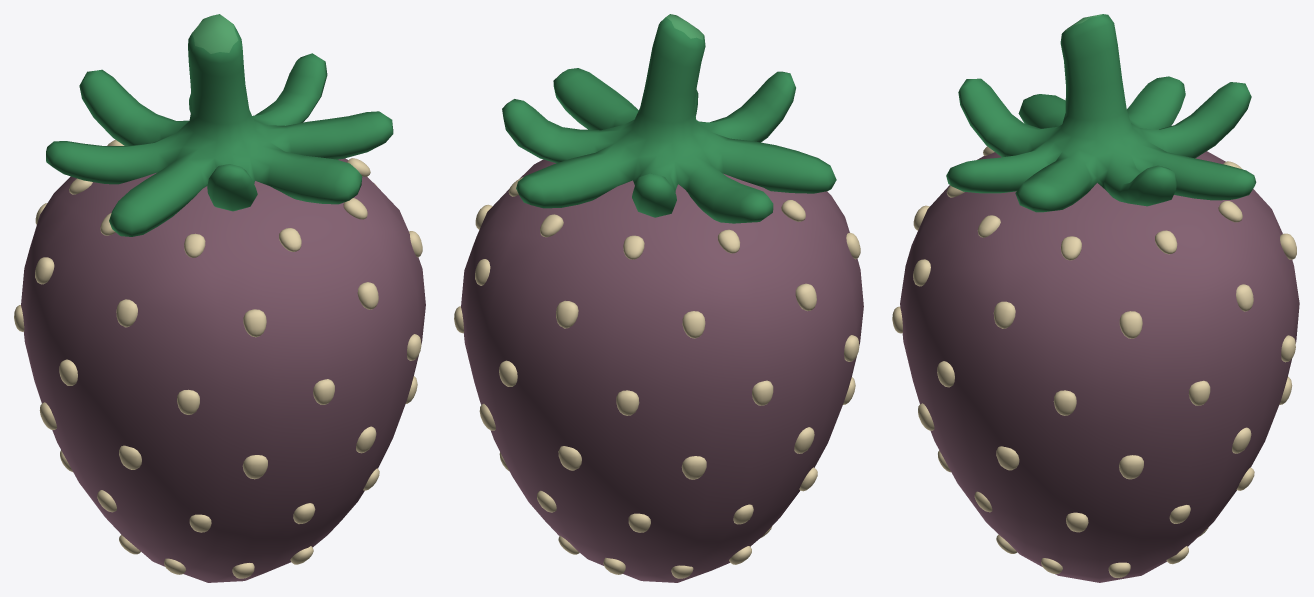
The model's file is Strawberry_02.dae.
3 renders of one model, left to right at view 1: azimuth 30°, elevation 25°; view 2: azimuth 150°, elevation 25°; view 3: azimuth 270°, elevation 25°, orthographic.
Visible parts, largest first — view 1: Strawberry_02_LOD0; view 2: Strawberry_02_LOD0; view 3: Strawberry_02_LOD0.
Part boxes in pixels (x1,y1,x2,y2): Strawberry_02_LOD0: (14,14,425,582); Strawberry_02_LOD0: (454,14,863,582); Strawberry_02_LOD0: (892,14,1299,582).
Size of what is drawn, in the model's own units: 2.66 by 2.65 by 3.98.
